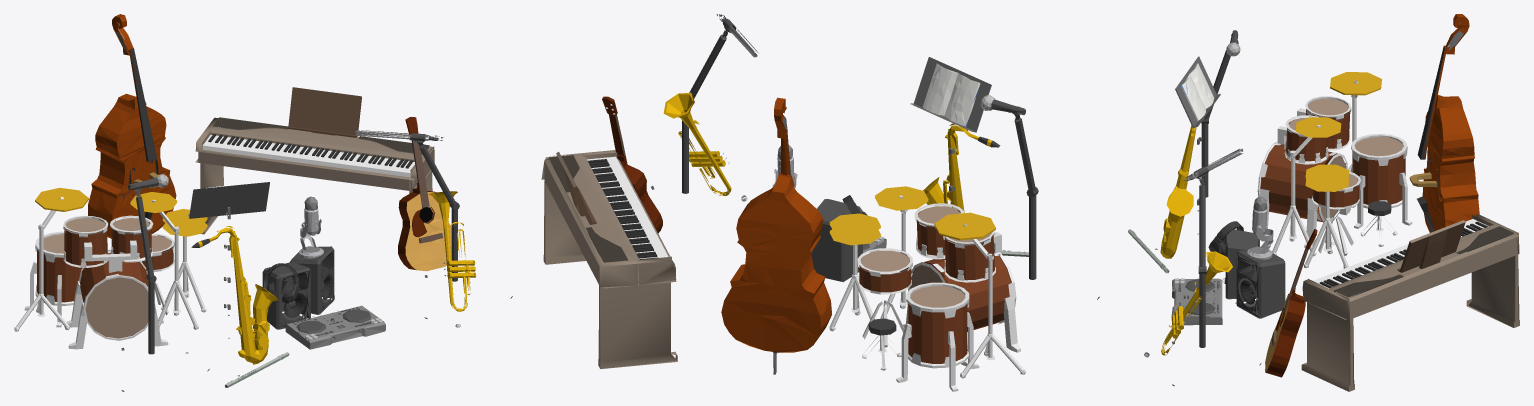
The model's file is music-band-low-poly-907847.glb.
The picture shows the model from 3 angles, left to right: view 1: azimuth 30°, elevation 25°; view 2: azimuth 150°, elevation 25°; view 3: azimuth 270°, elevation 25°; orthographic projection. The views are drawn at different scales.
Parts seen in each view (by area): view 1: PropMesh; view 2: PropMesh; view 3: PropMesh.
Part boxes in pixels (x1=…): PropMesh: x1=14, y1=14, x2=512, y2=391; PropMesh: x1=541, y1=14, x2=1099, y2=391; PropMesh: x1=1128, y1=14, x2=1519, y2=391.
Size of the model in its own units: 3.21 by 1.79 by 2.54.
